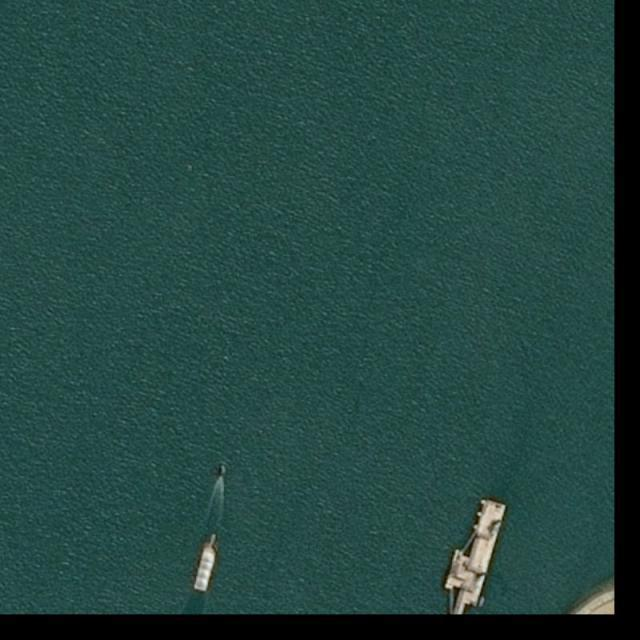ship: (191, 531, 223, 594), (219, 463, 226, 478)
